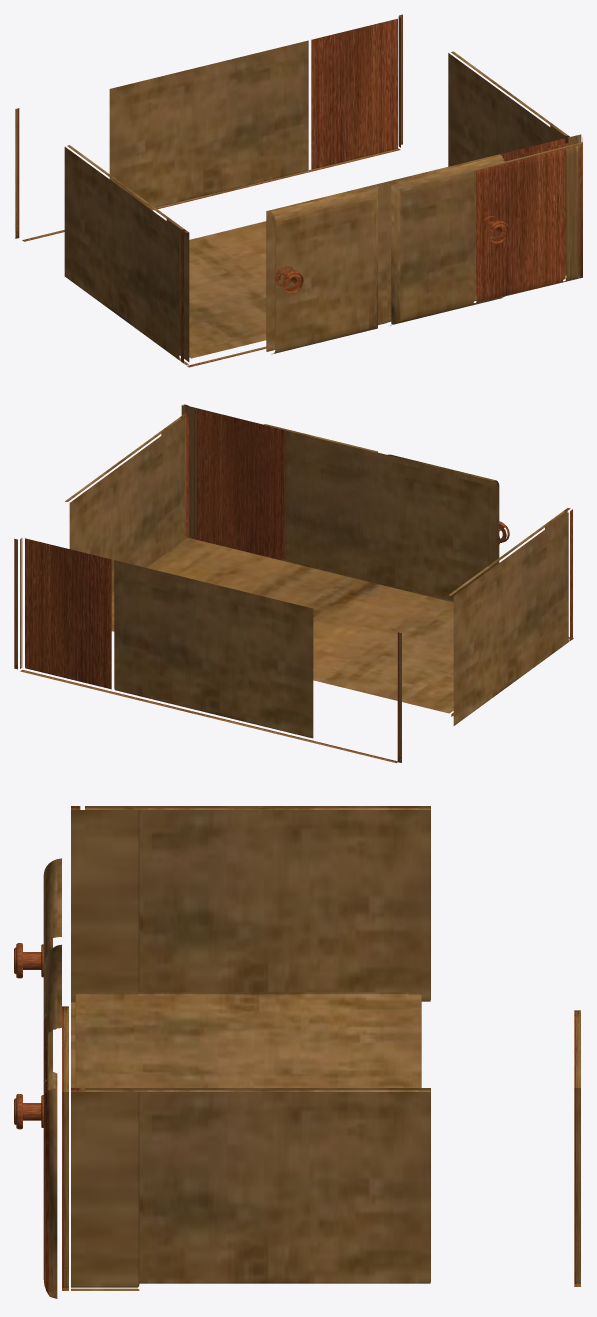
The model's file is link_1_combined_mesh.obj.
3 renders of one model, top to bottom at view 1: azimuth 30°, elevation 25°; view 2: azimuth 150°, elevation 25°; view 3: azimuth 270°, elevation 25°, orthographic. The views are drawn at different scales.
Bounding box in the file's own units: 0.4352 × 0.1489 × 0.3565.
1 material, 1 textured.
